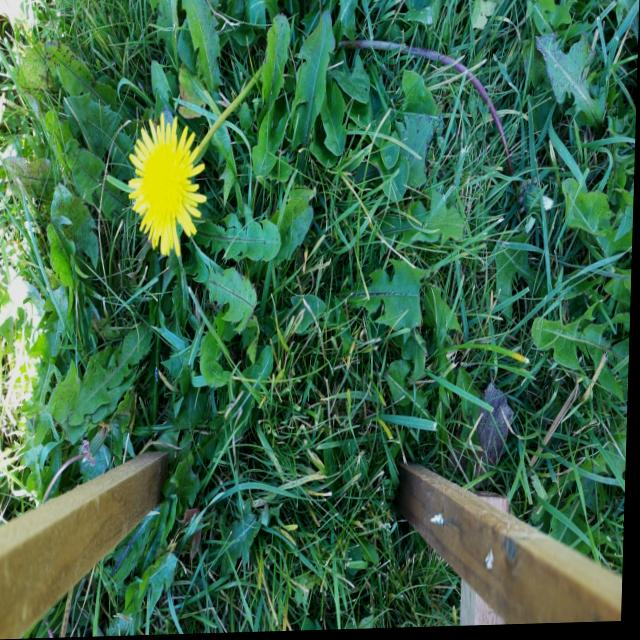base: (331, 25, 354, 67), (249, 57, 268, 87)
flower: (126, 113, 207, 254), (517, 176, 556, 223)
